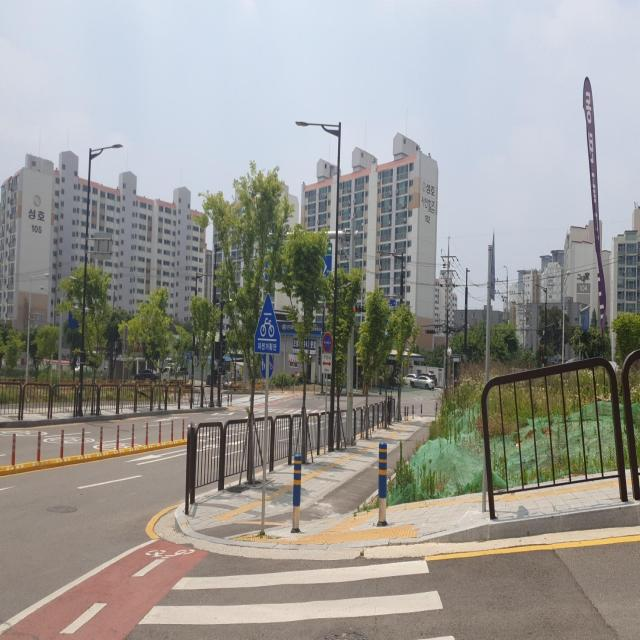횡단보도: (137, 558, 456, 639)
